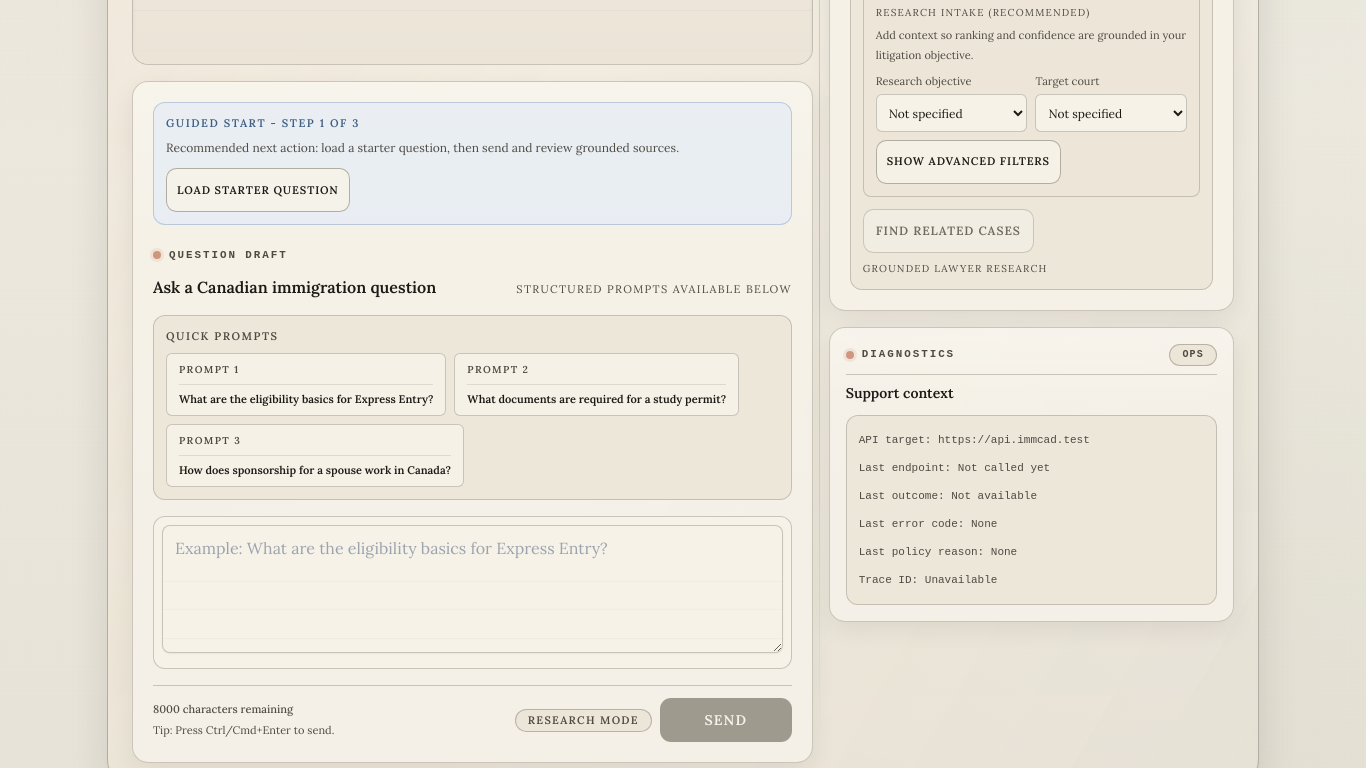
Test: chat shell ui › hydrates draft from quick prompt and toggles send button state
(page scrolled)
Expected: the button "Send" is disabled, [660, 698, 792, 742]
Click the button "What are the eligibility basics for Express Entry?".
click(306, 384)  # box [166, 353, 446, 416]
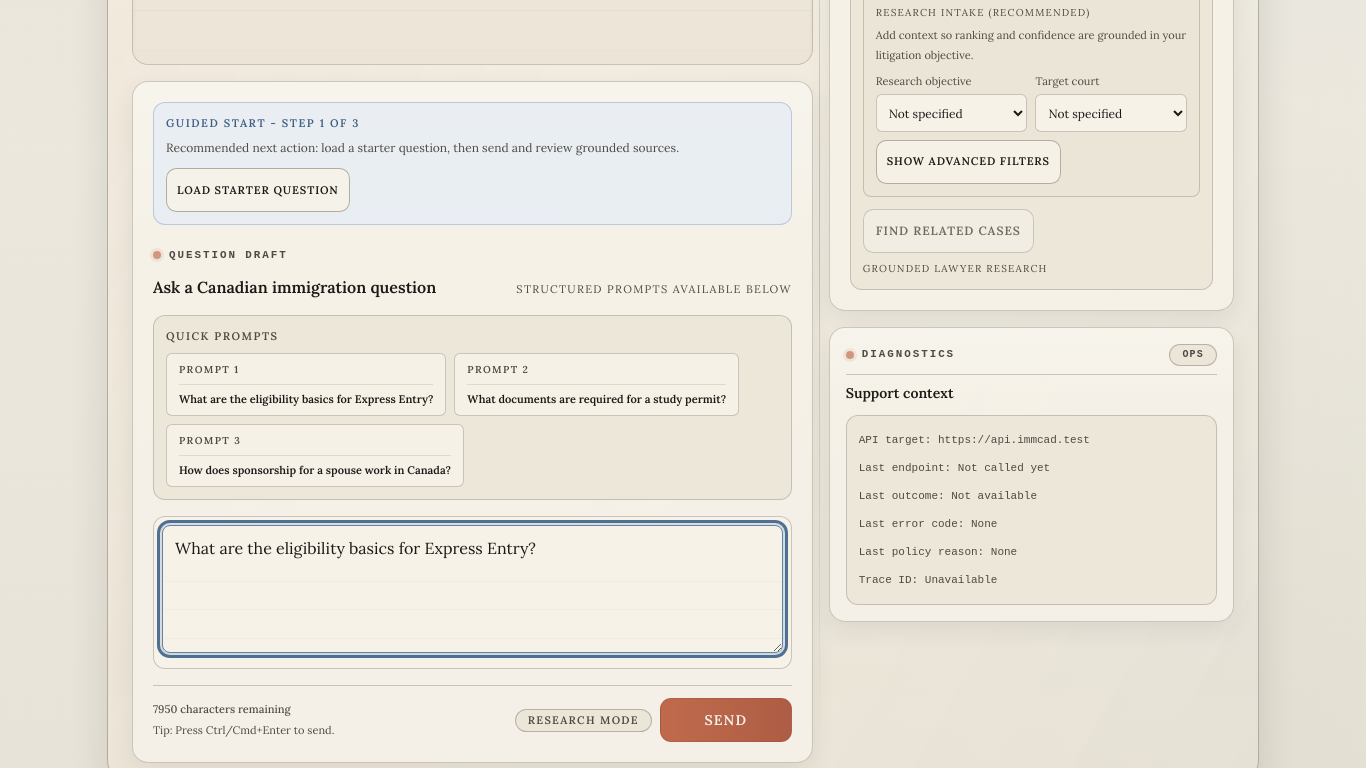
Expected: the text box labelled "Ask a Canadian immigration question" holds "What are the eligibility basics for Express Entry?", [162, 525, 783, 653]
Expected: the button "Send" is enabled, [660, 698, 792, 742]
